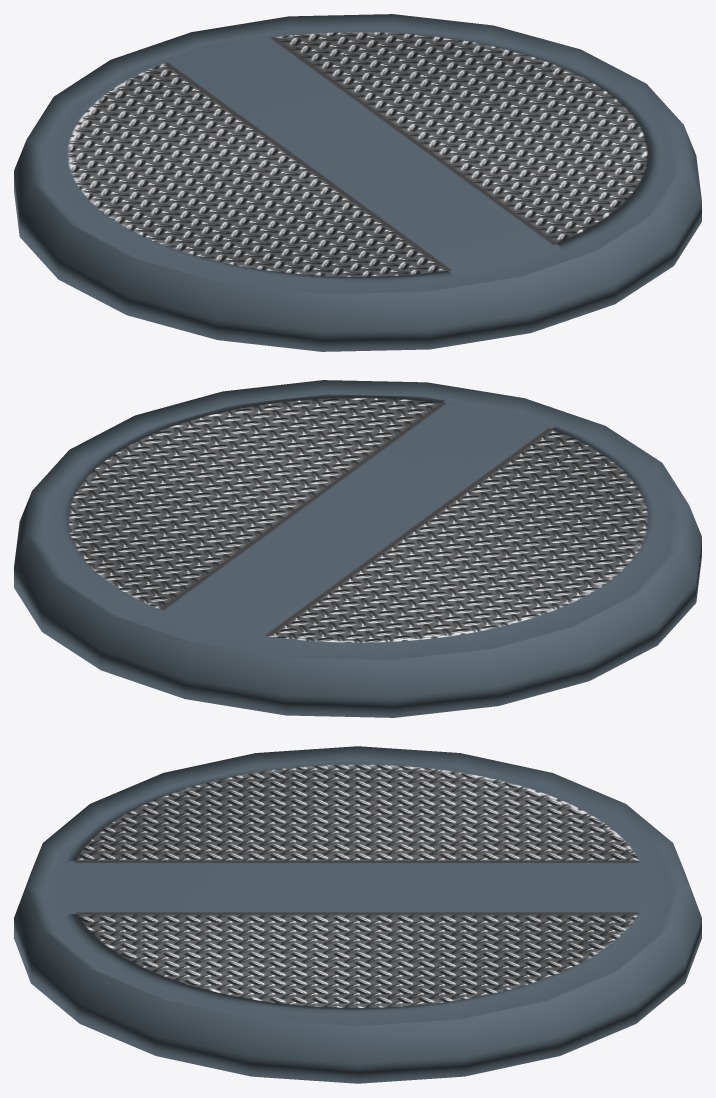
Rendered from TarretBase.fbx.
3 renders of one model, top to bottom at view 1: azimuth 30°, elevation 25°; view 2: azimuth 150°, elevation 25°; view 3: azimuth 270°, elevation 25°, orthographic.
Visible parts, largest first — view 1: pCylinder1; view 2: pCylinder1; view 3: pCylinder1.
Part boxes in pixels (bbox=[...]): pCylinder1: bbox=[14, 14, 701, 351]; pCylinder1: bbox=[14, 380, 701, 717]; pCylinder1: bbox=[14, 746, 701, 1083].
Bounding box in the file's own units: 60 × 5.02 × 60.
